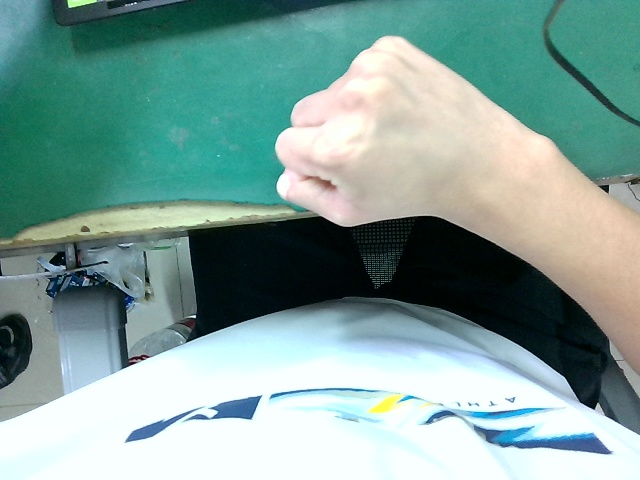stone: (273, 24, 524, 266)
